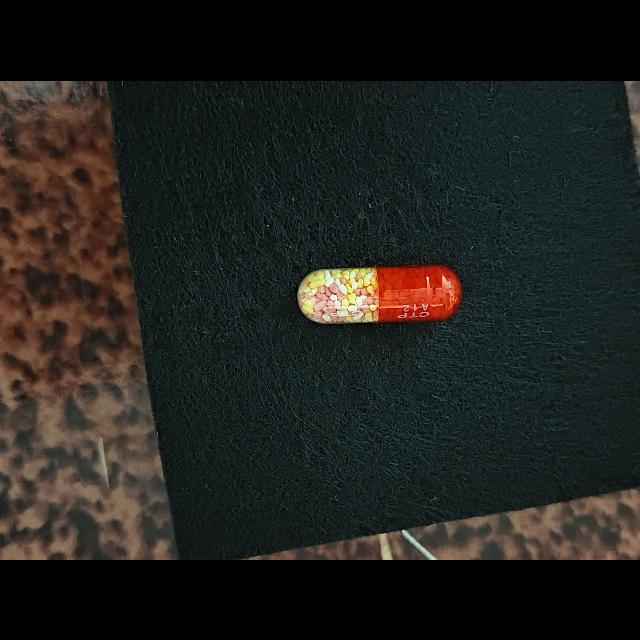Intact Capsule: (297, 264, 462, 323)
